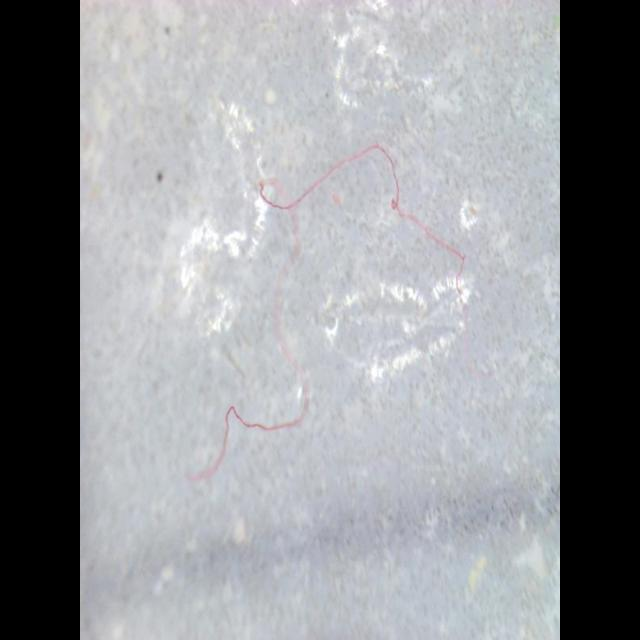Fibre: (184, 140, 476, 482)
